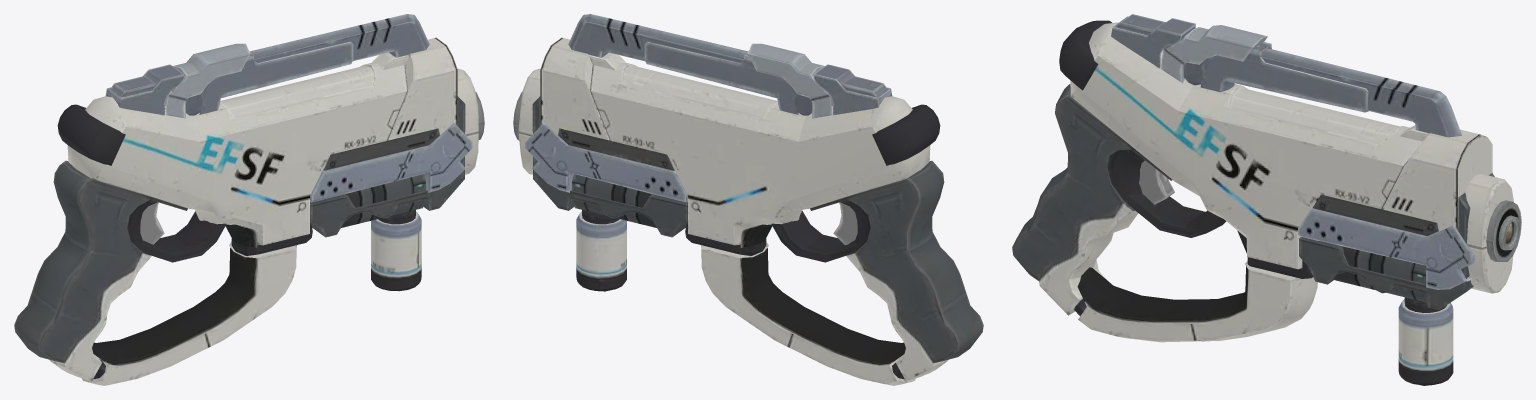
File: pistol.glb
3 views of the same model, side by side, from view 1: azimuth 30°, elevation 25°; view 2: azimuth 150°, elevation 25°; view 3: azimuth 330°, elevation 25° (orthographic). The views are drawn at different scales.
Parts seen in each view (by area): view 1: pSphere2_lambert1_0; view 2: pSphere2_lambert1_0; view 3: pSphere2_lambert1_0.
Part boxes in pixels (x1,y1,x2,y2): pSphere2_lambert1_0: (14, 14, 484, 385); pSphere2_lambert1_0: (513, 14, 983, 385); pSphere2_lambert1_0: (1012, 14, 1521, 385).
Size of the model in its own units: 0.0736 by 0.0473 by 0.00961.
Materials: 2 (1 with a texture image).
